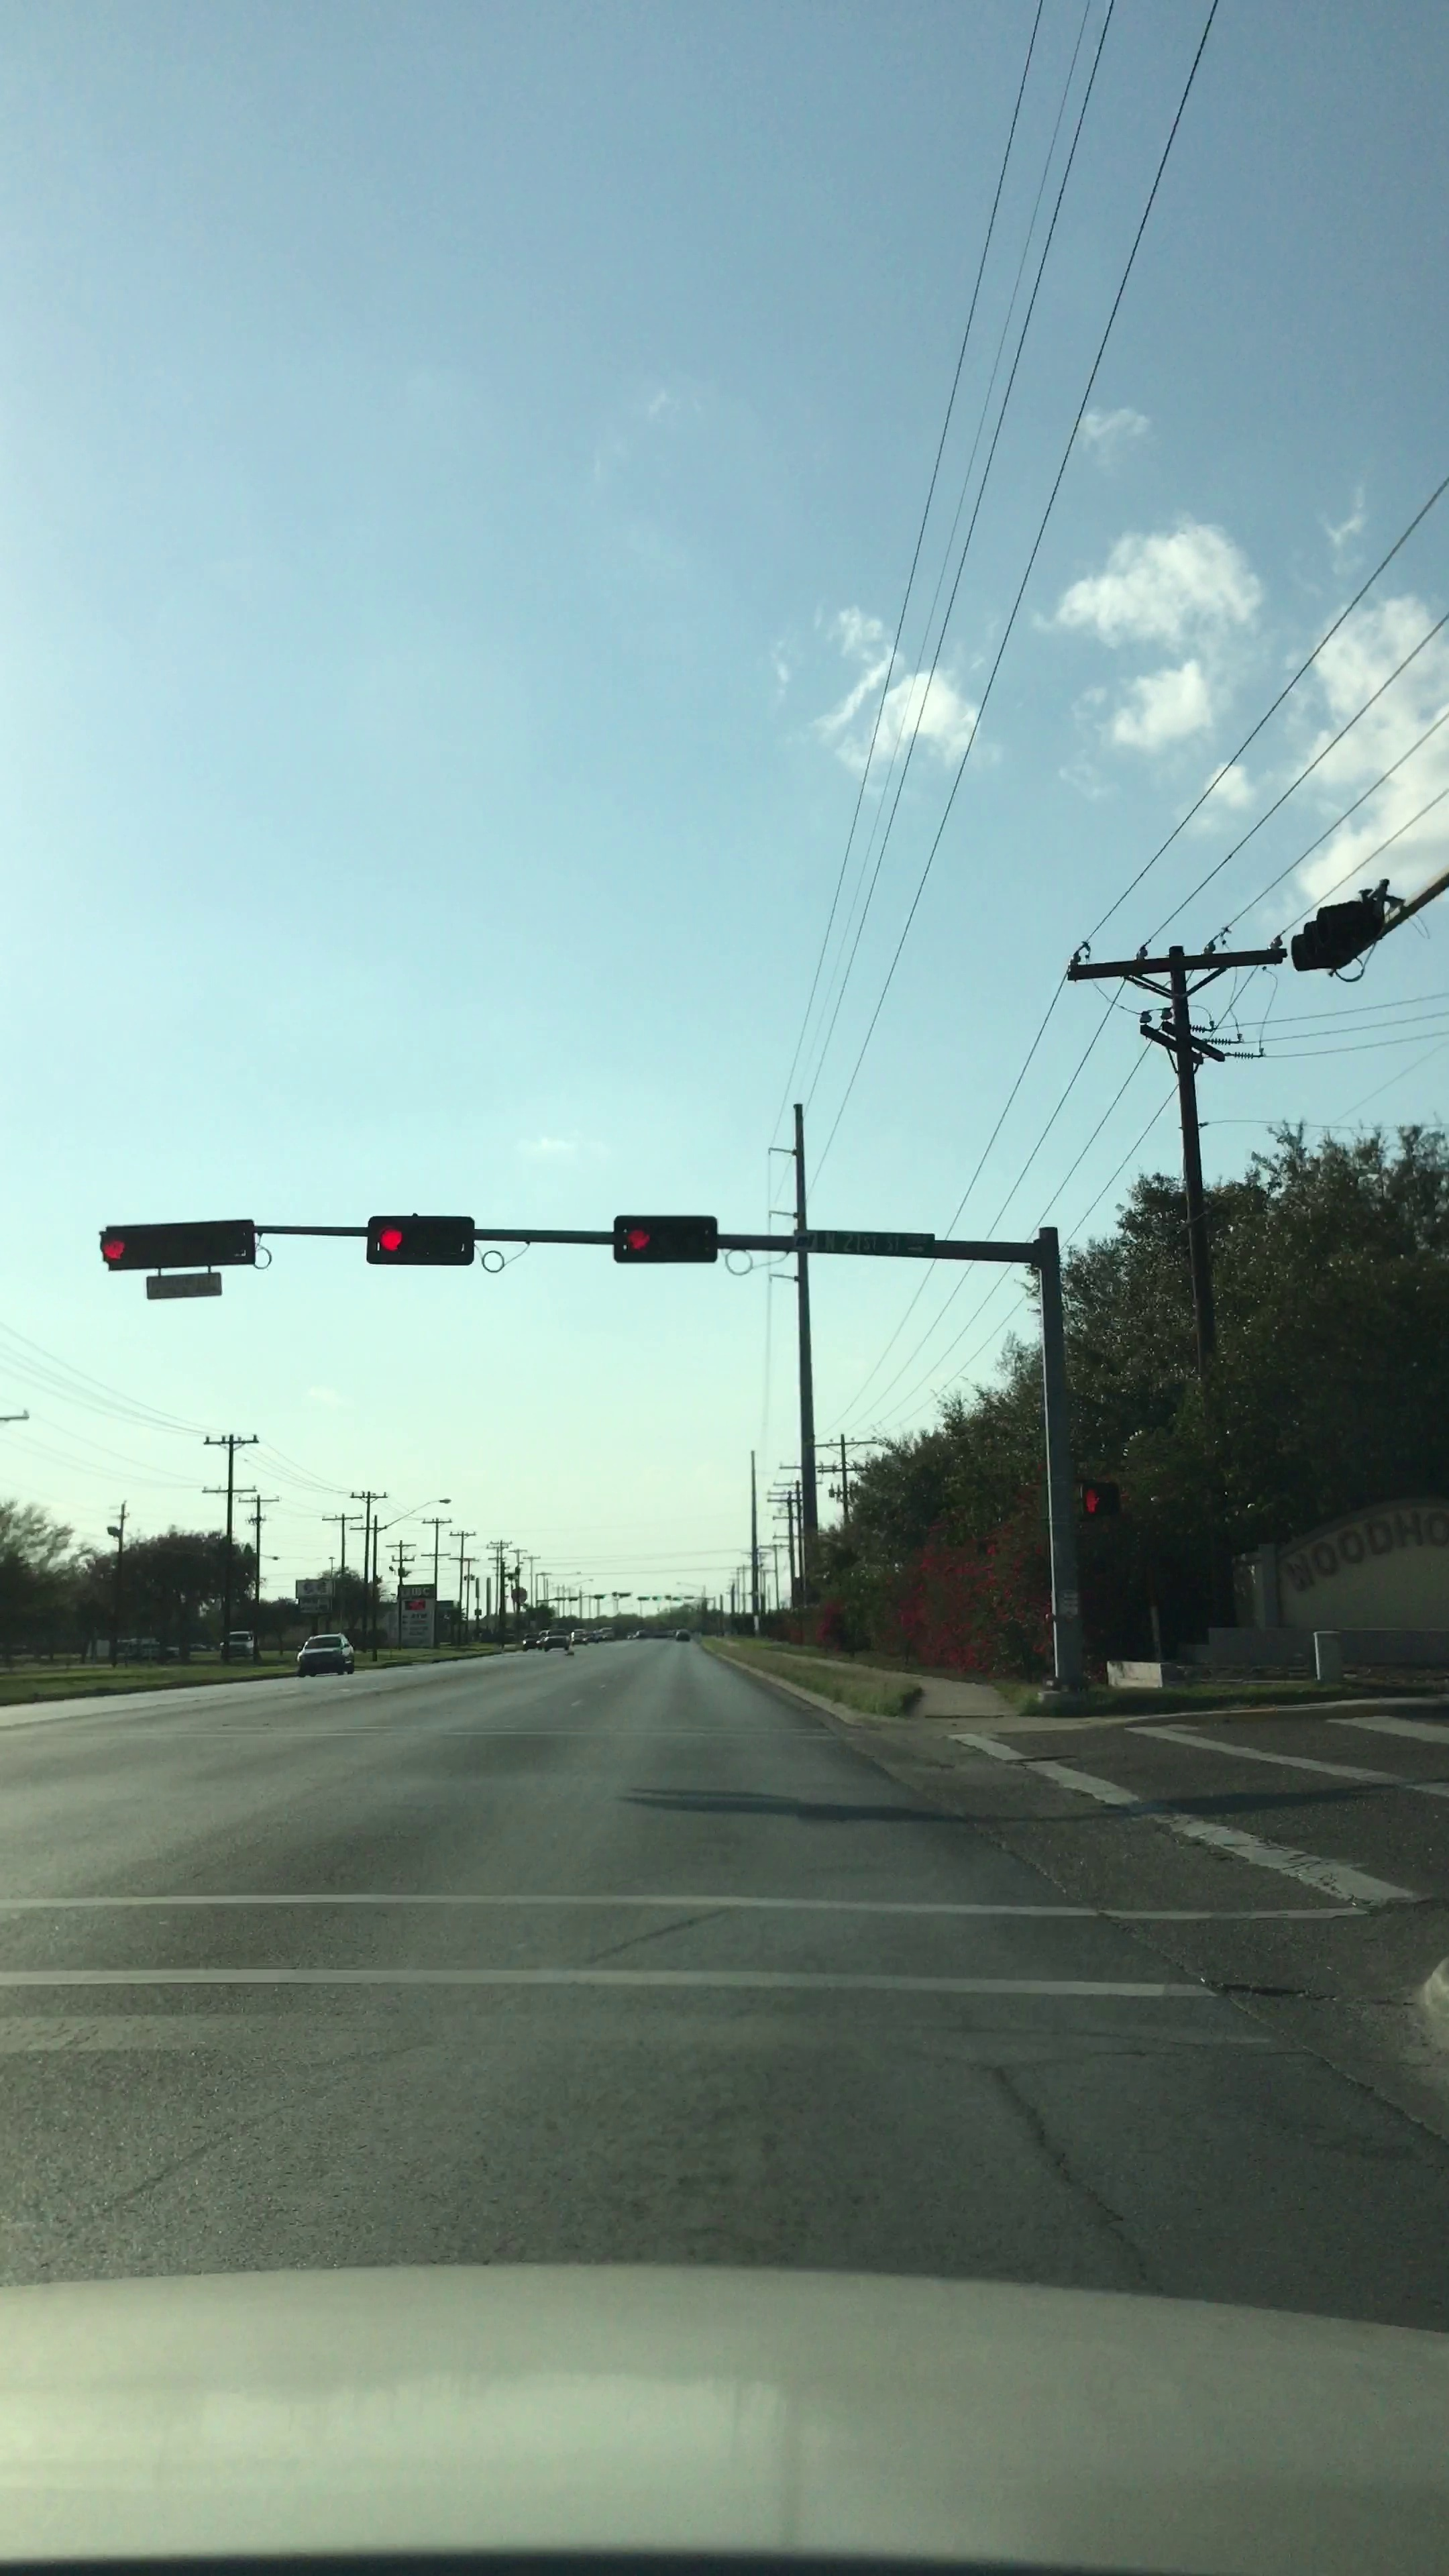blurredLine: (88, 1877, 1198, 2077)
